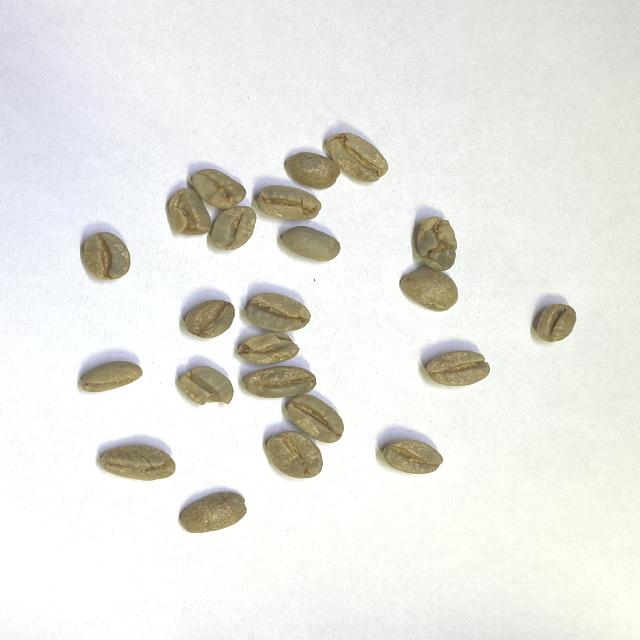bad: (96, 444, 178, 482), (410, 216, 458, 271), (246, 292, 311, 332), (168, 186, 212, 238), (177, 367, 234, 407), (234, 333, 300, 363)
good: (325, 132, 388, 186), (178, 490, 248, 534), (264, 432, 324, 480), (284, 396, 344, 443), (80, 232, 132, 283), (398, 267, 458, 311), (422, 349, 490, 387), (242, 365, 316, 399), (254, 186, 323, 222), (378, 438, 444, 474), (278, 226, 340, 264), (208, 205, 258, 252), (188, 167, 246, 207), (78, 359, 144, 393), (183, 298, 236, 340), (284, 153, 340, 189), (534, 304, 576, 344)
